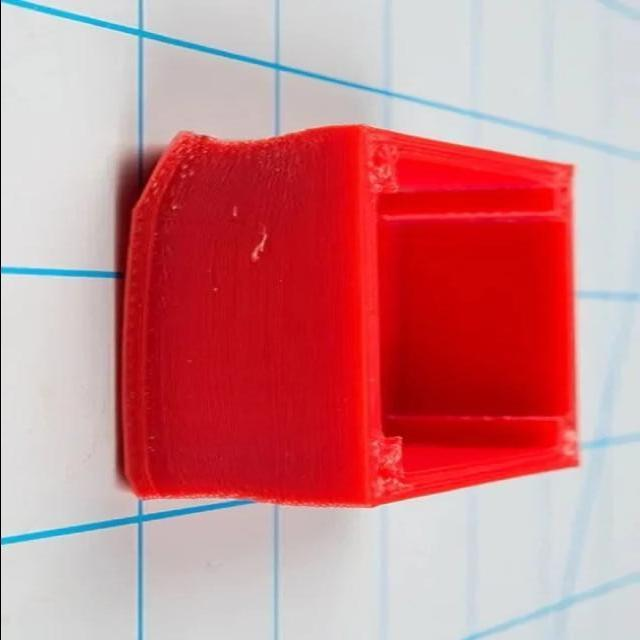Warping: (104, 125, 211, 237)
